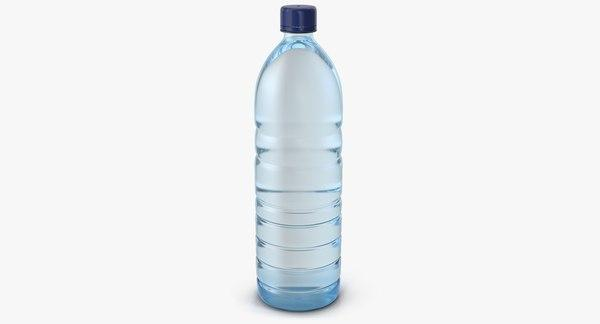plastic_bottle: (244, 3, 359, 314)
